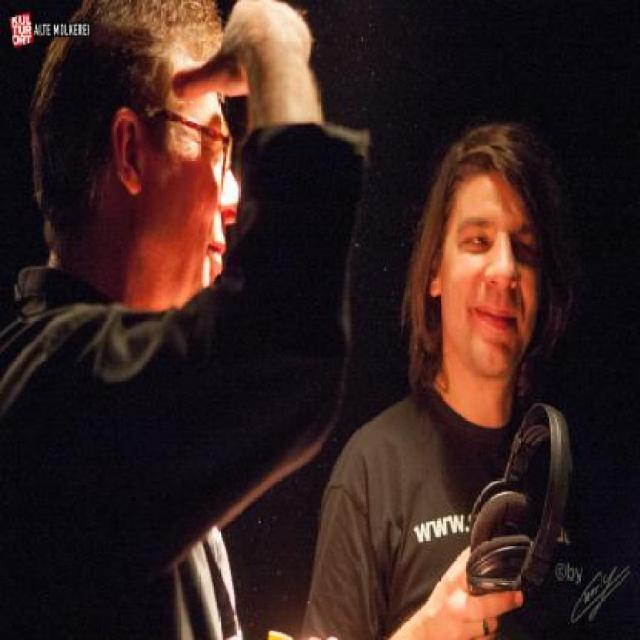earphone: (445, 393, 577, 627)
